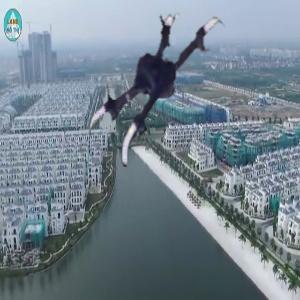drone: (81, 7, 254, 180)
